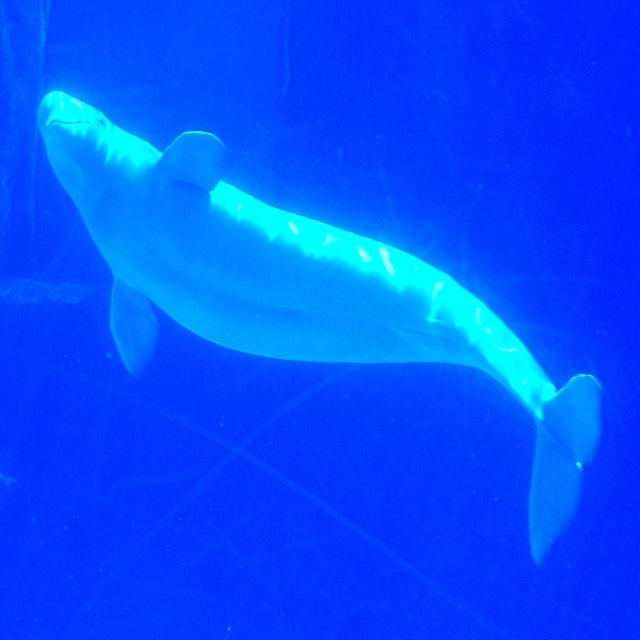Fish: (38, 89, 602, 567)
